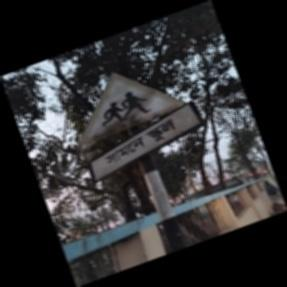School-in-front: (82, 72, 204, 184)
